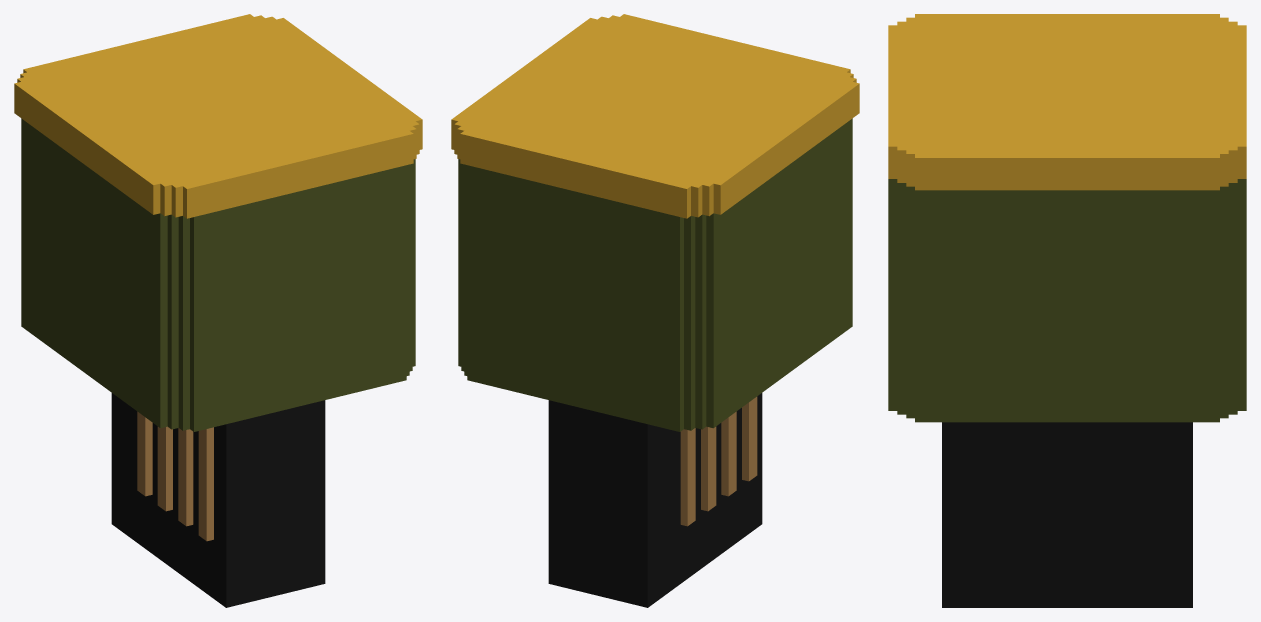
The model's file is gloves_trooper_worn_palm.glb.
The picture shows the model from 3 angles, left to right: view 1: azimuth 30°, elevation 25°; view 2: azimuth 150°, elevation 25°; view 3: azimuth 270°, elevation 25°; orthographic projection. The views are drawn at different scales.
Parts seen in each view (by area): view 1: gloves_trooper_worn_palm:compound; view 2: gloves_trooper_worn_palm:compound; view 3: gloves_trooper_worn_palm:compound.
Boxes of the visible parts, box(x1,y1,x2,y2) form: gloves_trooper_worn_palm:compound: box(14, 14, 422, 607); gloves_trooper_worn_palm:compound: box(451, 14, 859, 607); gloves_trooper_worn_palm:compound: box(888, 14, 1246, 607).
Size of the model in its own units: 0.152 by 0.244 by 0.16.
